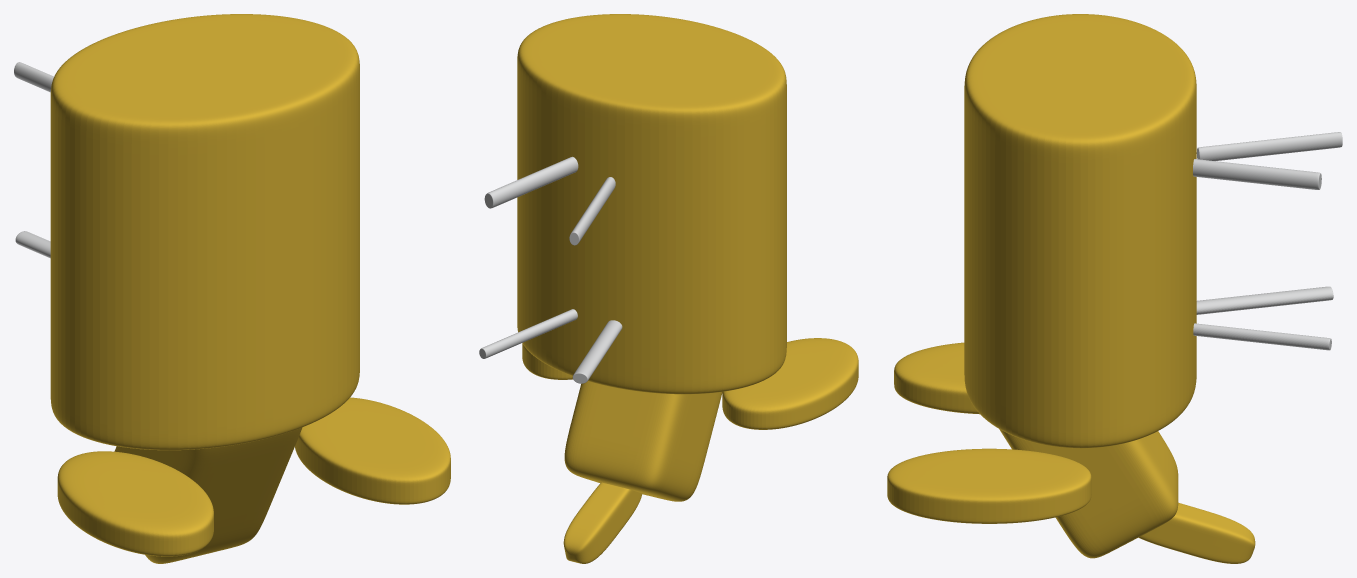
Rendered from elephant-input.glb.
3 renders of one model, left to right at view 1: azimuth 30°, elevation 25°; view 2: azimuth 150°, elevation 25°; view 3: azimuth 270°, elevation 25°, orthographic. The views are drawn at different scales.
Parts seen in each view (by area): view 1: superquadric_4, superquadric_8, superquadric_5, superquadric_7, superquadric_3, superquadric_1; view 2: superquadric_4, superquadric_7, superquadric_8, superquadric_6, superquadric_2, superquadric_0, superquadric_1, superquadric_3, superquadric_5; view 3: superquadric_4, superquadric_5, superquadric_7, superquadric_8, superquadric_6, superquadric_2, superquadric_3, superquadric_1, superquadric_0.
Part boxes in pixels (x1,y1,x2,y2): superquadric_4: [50, 14, 359, 450]; superquadric_8: [57, 451, 213, 556]; superquadric_5: [295, 397, 450, 504]; superquadric_7: [114, 427, 302, 563]; superquadric_3: [14, 62, 53, 92]; superquadric_1: [15, 231, 50, 258]; superquadric_4: [517, 14, 786, 394]; superquadric_7: [564, 381, 722, 501]; superquadric_8: [722, 338, 858, 429]; superquadric_6: [563, 482, 642, 563]; superquadric_2: [484, 156, 578, 208]; superquadric_0: [479, 309, 577, 358]; superquadric_1: [572, 320, 622, 383]; superquadric_3: [569, 177, 615, 245]; superquadric_5: [522, 344, 572, 379]; superquadric_4: [964, 14, 1196, 448]; superquadric_5: [887, 448, 1091, 523]; superquadric_7: [999, 429, 1178, 558]; superquadric_8: [894, 342, 979, 414]; superquadric_6: [1138, 502, 1255, 563]; superquadric_2: [1193, 159, 1321, 189]; superquadric_3: [1196, 132, 1342, 161]; superquadric_1: [1196, 286, 1333, 314]; superquadric_0: [1193, 323, 1331, 350].
Size of the model in its own units: 0.7076 by 1 by 0.8544.
